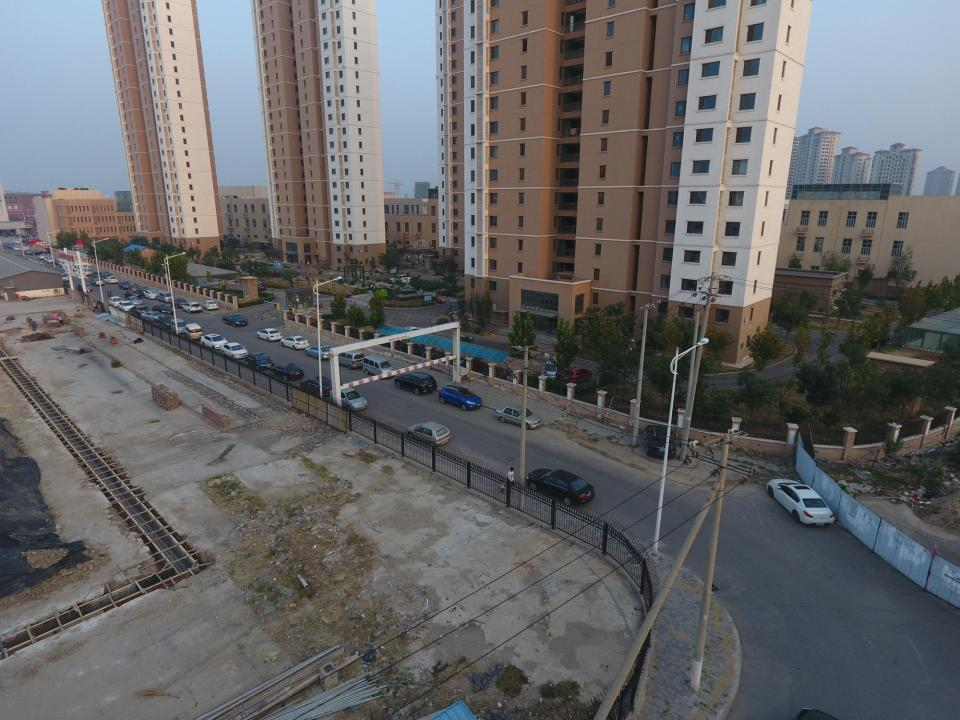car: (766, 478, 834, 526), (525, 468, 595, 505), (496, 404, 543, 430), (406, 421, 451, 448), (438, 384, 482, 411), (643, 425, 676, 458), (394, 372, 437, 395), (329, 386, 368, 410), (300, 375, 334, 396), (270, 363, 304, 381), (560, 367, 592, 385), (859, 331, 890, 348), (244, 352, 274, 369), (220, 342, 248, 359), (305, 344, 333, 361), (280, 335, 310, 350), (201, 334, 229, 350), (256, 328, 283, 342), (222, 313, 248, 327), (140, 311, 165, 323), (130, 305, 150, 319), (158, 314, 176, 329), (152, 304, 173, 315), (389, 273, 413, 282), (127, 296, 144, 308), (182, 302, 202, 312), (142, 290, 162, 300), (397, 276, 419, 285), (169, 298, 188, 308), (125, 290, 144, 300), (118, 301, 134, 312), (203, 300, 218, 311), (109, 296, 123, 307), (249, 282, 266, 291), (32, 248, 50, 256), (77, 283, 92, 292), (68, 259, 79, 271), (118, 280, 134, 288), (139, 287, 153, 296), (103, 276, 118, 284), (90, 278, 105, 286), (267, 260, 284, 267), (129, 282, 142, 290), (3, 239, 16, 247), (58, 260, 70, 268), (8, 244, 20, 250), (39, 252, 48, 259), (61, 275, 69, 281), (48, 258, 56, 264), (15, 246, 23, 252), (11, 244, 20, 249)
truck: (91, 271, 112, 281)
van: (363, 355, 394, 379), (335, 350, 365, 370), (542, 355, 565, 381), (183, 323, 203, 341), (170, 318, 188, 334), (157, 290, 174, 304), (82, 267, 92, 275)
